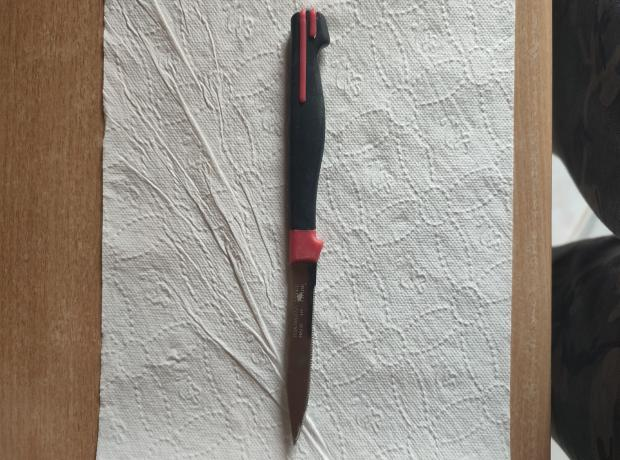metal: (286, 8, 331, 449)
